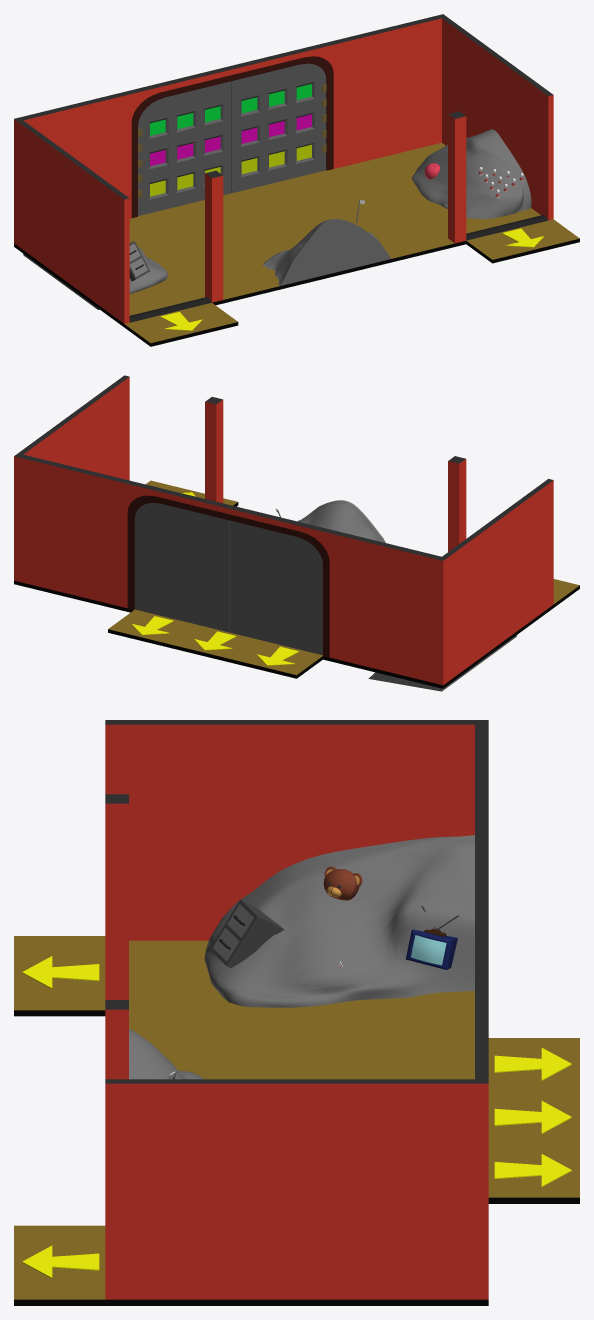
File: DetrasEscenario.fbx
The picture shows the model from 3 angles, top to bottom: view 1: azimuth 30°, elevation 25°; view 2: azimuth 150°, elevation 25°; view 3: azimuth 270°, elevation 25°; orthographic projection. The views are drawn at different scales.
Parts seen in each view (by area): view 1: Paredes.001, PlataformaMovil.004, Puerta2.001, Puerta1.002, MontonBasura3, MontonBasura1, MarcoPuerta, Pilar2, Pilar1, MontonBasura2, Separador-Suelo1, Separador-Suelo2 (+2 smaller); view 2: Paredes.001, Puerta2.001, Puerta1.002, PlataformaMovil.004, MarcoPuerta, Pilar2, MontonBasura1, Pilar1, SalidaMazmorra, MontonBasura2; view 3: Paredes.001, PlataformaMovil.004, MontonBasura2, Pilar1, SalidaMazmorra, Pilar2, MontonBasura1, MarcoCajonera, Tele, SalidaBambalinasDer.001, SalidaBambalinasIzq.001, CabezaOso.
Part boxes in pixels (bbox=[...]): Paredes.001: bbox=[14, 14, 553, 323]; PlataformaMovil.004: bbox=[14, 142, 579, 346]; Puerta2.001: bbox=[231, 63, 326, 193]; Puerta1.002: bbox=[138, 81, 231, 215]; MontonBasura3: bbox=[412, 129, 531, 219]; MontonBasura1: bbox=[263, 219, 391, 285]; MarcoPuerta: bbox=[131, 56, 333, 218]; Pilar2: bbox=[448, 111, 466, 243]; Pilar1: bbox=[205, 170, 223, 302]; MontonBasura2: bbox=[23, 247, 167, 309]; Separador-Suelo1: bbox=[129, 297, 211, 322]; Separador-Suelo2: bbox=[466, 215, 548, 240]; Paredes.001: bbox=[14, 375, 553, 685]; Puerta2.001: bbox=[135, 503, 229, 632]; Puerta1.002: bbox=[229, 520, 322, 655]; PlataformaMovil.004: bbox=[14, 480, 579, 688]; MarcoPuerta: bbox=[127, 495, 329, 657]; Pilar2: bbox=[205, 397, 223, 503]; MontonBasura1: bbox=[297, 500, 385, 542]; Pilar1: bbox=[448, 456, 466, 551]; SalidaMazmorra: bbox=[131, 616, 299, 665]; MontonBasura2: bbox=[368, 635, 516, 691]; Paredes.001: bbox=[105, 720, 488, 1299]; PlataformaMovil.004: bbox=[14, 936, 579, 1305]; MontonBasura2: bbox=[204, 835, 474, 1007]; Pilar1: bbox=[105, 794, 128, 999]; SalidaMazmorra: bbox=[494, 1048, 571, 1186]; Pilar2: bbox=[105, 1000, 128, 1079]; MontonBasura1: bbox=[129, 1028, 203, 1079]; MarcoCajonera: bbox=[209, 899, 284, 968]; Tele: bbox=[405, 906, 459, 969]; SalidaBambalinasDer.001: bbox=[22, 1245, 99, 1278]; SalidaBambalinasIzq.001: bbox=[22, 956, 99, 988]; CabezaOso: bbox=[323, 866, 362, 900].
Bounding box in the file's own units: 23591 × 7355 × 15516.
